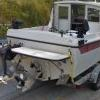Boat: (6, 2, 99, 88)
